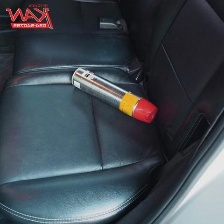aerosol_cans: (67, 63, 164, 126)
